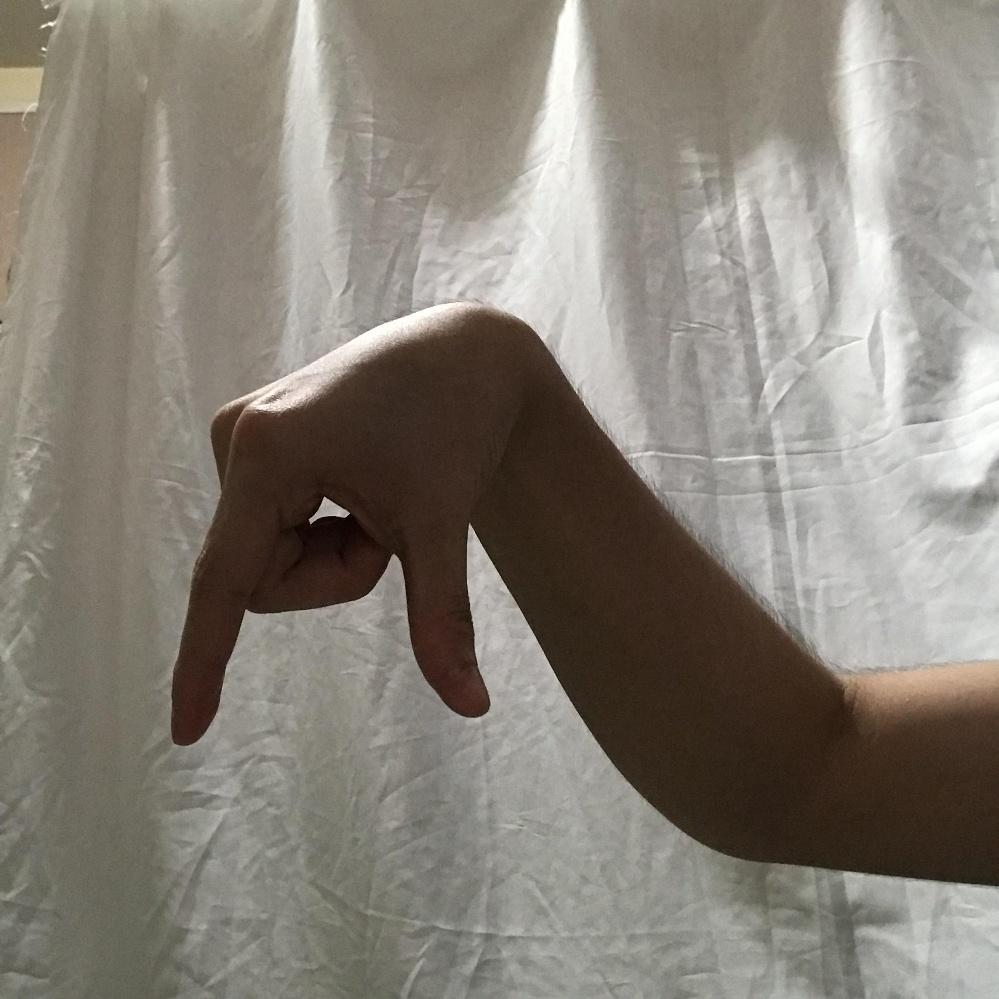q: (167, 289, 493, 747)
